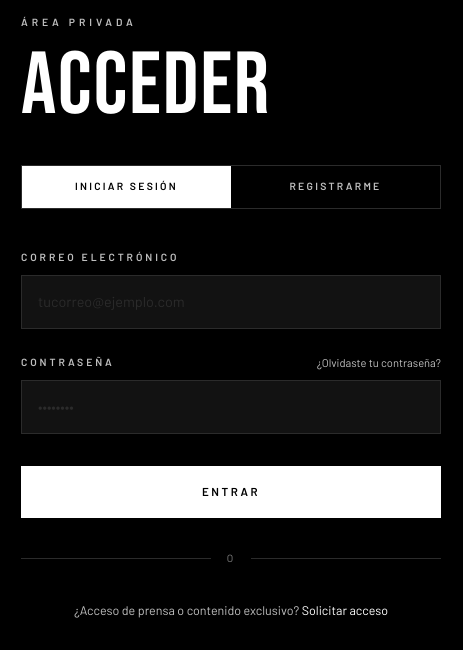
Test case: Login › muestra error de validación con contraseña corta
Type "test@jhonkarly.com" into the field labelled "Correo electrónico".
click(231, 302); type("test@jhonkarly.com")  # box [21,274,441,329]
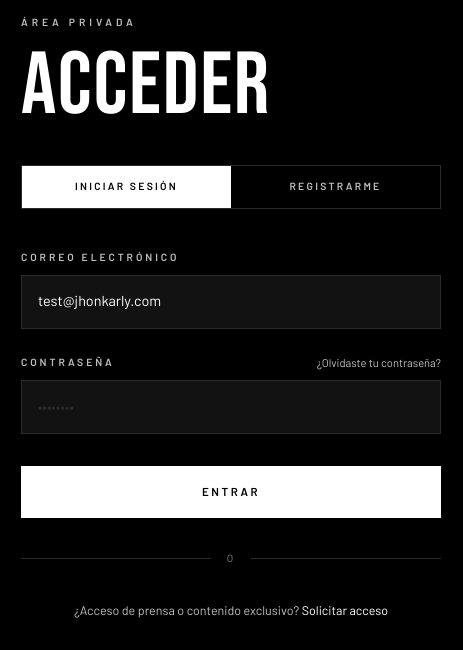
Type "123" into the password field labelled "Contraseña".
click(231, 407); type("123")  # box [21,380,441,434]
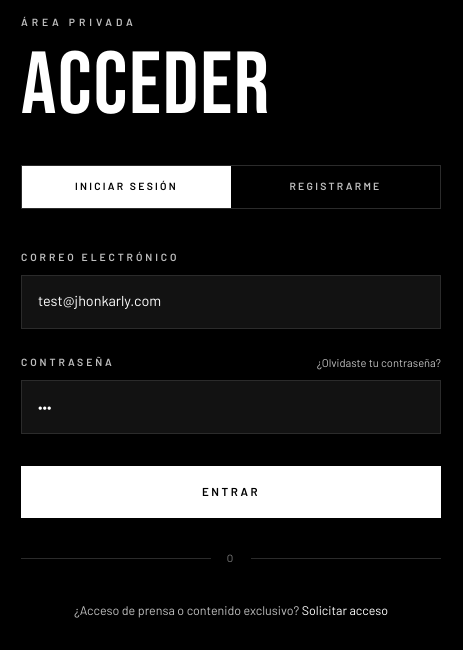
Submit the form "Entrar", box [21,249,441,518]
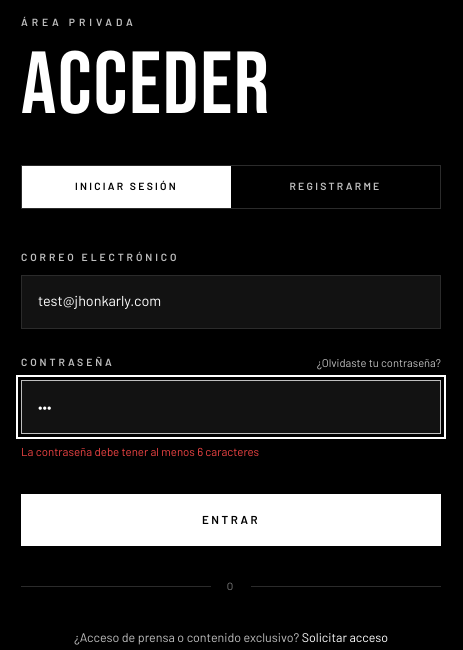
Expected: the text "La contraseña debe tener al menos 6 caracteres" is shown, [21,444,259,458]
